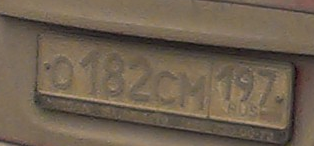character: (125, 50, 154, 104), (75, 44, 101, 99), (101, 48, 127, 101), (178, 70, 207, 114), (45, 55, 75, 93), (153, 69, 179, 110), (255, 64, 277, 109), (213, 63, 235, 106), (234, 64, 255, 106)
